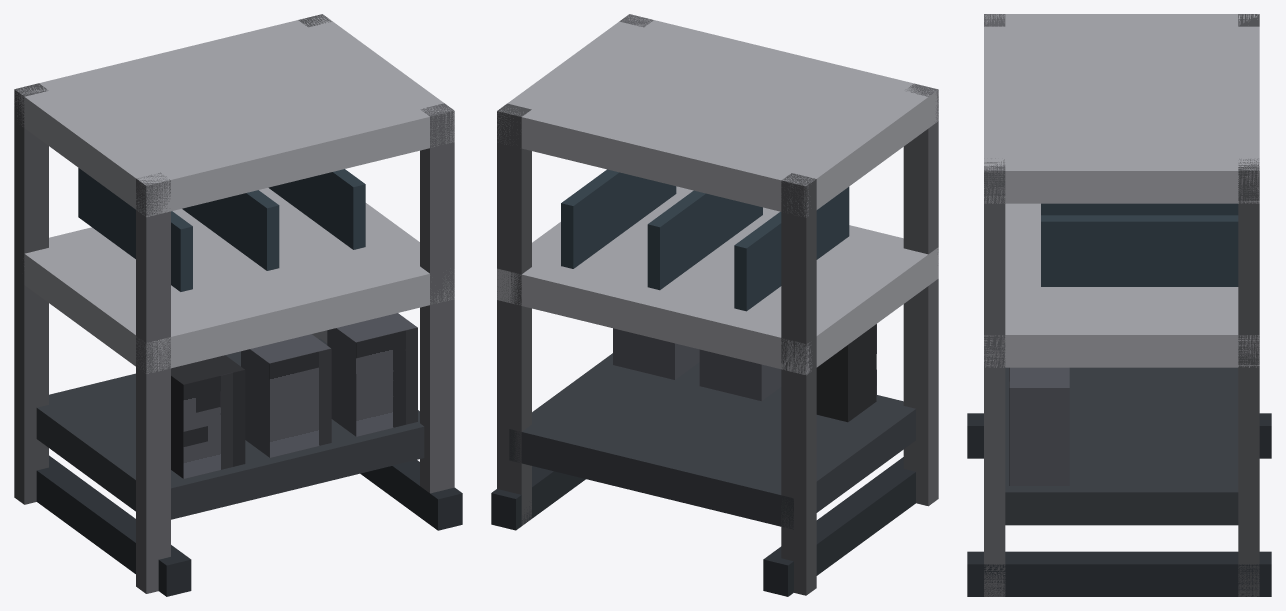
File: CMU3DMachineFrameUnfinishedCloud.glb
3 views of the same model, side by side, from view 1: azimuth 30°, elevation 25°; view 2: azimuth 150°, elevation 25°; view 3: azimuth 270°, elevation 25° (orthographic). The views are drawn at different scales.
Visible parts, largest first — view 1: full depth upper tier 5, full depth upper tier 15, open frame lower transverse rail, front structural post 4, front structural post 27, rear structural post 4, horizontal lower foot 5, lower equipment cartridge 3 original face, lower equipment cartridge 2 original face, lower equipment cartridge 1 original face, upper interior dark guide 9, upper interior dark guide 16 (+5 smaller); view 2: full depth upper tier 5, open frame lower transverse rail, full depth upper tier 15, rear structural post 4, rear structural post 27, front structural post 4, horizontal lower foot 5, upper interior dark guide 16, upper interior dark guide 23, upper interior dark guide 9, lower equipment cartridge 1, lower equipment cartridge 3 (+2 smaller); view 3: full depth upper tier 5, open frame lower transverse rail, full depth upper tier 15, upper interior dark guide 23, horizontal lower foot 27, rear structural post 27, front structural post 27, lower equipment cartridge 3, upper interior dark guide 16, horizontal lower foot 5.
Part boxes in pixels (bbox=[...]): full depth upper tier 5: bbox=[14, 14, 454, 217]; full depth upper tier 15: bbox=[23, 188, 454, 373]; open frame lower transverse rail: bbox=[36, 338, 424, 519]; front structural post 4: bbox=[136, 172, 170, 593]; front structural post 27: bbox=[420, 103, 454, 493]; rear structural post 4: bbox=[14, 83, 48, 504]; horizontal lower foot 5: bbox=[36, 455, 191, 596]; lower equipment cartridge 3 original face: bbox=[356, 327, 417, 436]; lower equipment cartridge 2 original face: bbox=[269, 348, 331, 457]; lower equipment cartridge 1 original face: bbox=[183, 369, 245, 478]; upper interior dark guide 9: bbox=[78, 168, 192, 291]; upper interior dark guide 16: bbox=[182, 190, 279, 270]; full depth upper tier 5: bbox=[497, 14, 938, 217]; open frame lower transverse rail: bbox=[509, 353, 915, 529]; full depth upper tier 15: bbox=[497, 186, 938, 375]; rear structural post 4: bbox=[781, 173, 816, 595]; rear structural post 27: bbox=[497, 103, 531, 525]; front structural post 4: bbox=[903, 83, 938, 506]; horizontal lower foot 5: bbox=[763, 457, 915, 596]; upper interior dark guide 16: bbox=[647, 190, 762, 290]; upper interior dark guide 23: bbox=[561, 169, 676, 268]; upper interior dark guide 9: bbox=[734, 187, 849, 311]; lower equipment cartridge 1: bbox=[816, 324, 876, 422]; lower equipment cartridge 3: bbox=[613, 328, 699, 379]; full depth upper tier 5: bbox=[984, 14, 1259, 203]; open frame lower transverse rail: bbox=[1005, 367, 1238, 525]; full depth upper tier 15: bbox=[984, 203, 1259, 367]; upper interior dark guide 23: bbox=[1041, 215, 1238, 286]; horizontal lower foot 27: bbox=[967, 551, 1271, 596]; rear structural post 27: bbox=[1238, 158, 1259, 596]; front structural post 27: bbox=[984, 158, 1005, 596]; lower equipment cartridge 3: bbox=[1010, 367, 1069, 485]; upper interior dark guide 16: bbox=[1041, 203, 1238, 215]; horizontal lower foot 5: bbox=[967, 413, 1271, 458].
Size of the model in its own units: 0.7812 by 0.988 by 0.64.
11 materials, 3 textured.
